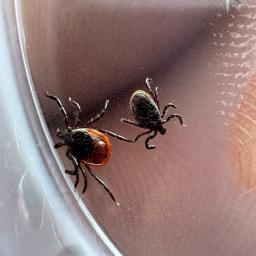Ixodes scapularis: (45, 90, 130, 203), (123, 77, 184, 148)
